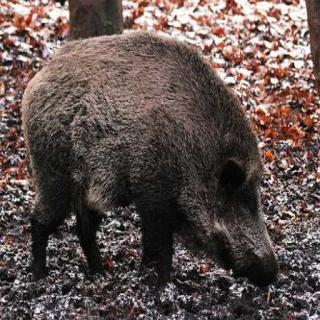Pig: (18, 26, 281, 293)
